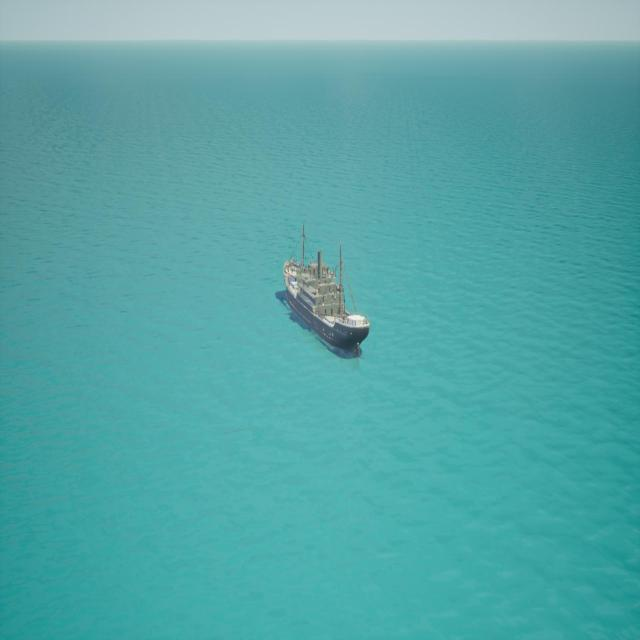fishing ship: (278, 226, 371, 358)
